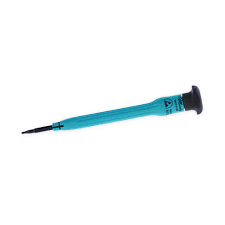Screwdriver: (12, 81, 211, 134)
